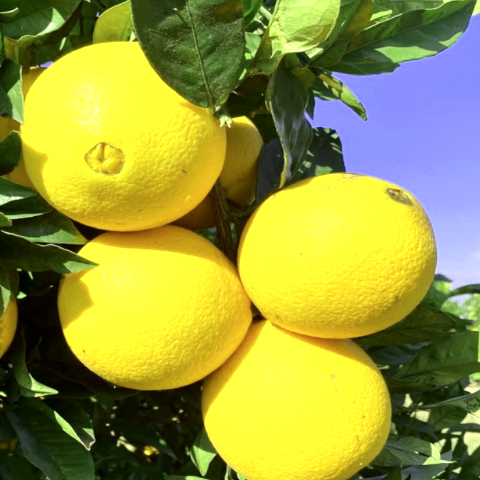orange: (12, 33, 250, 233), (173, 307, 415, 474), (41, 212, 258, 387), (237, 176, 460, 335)
